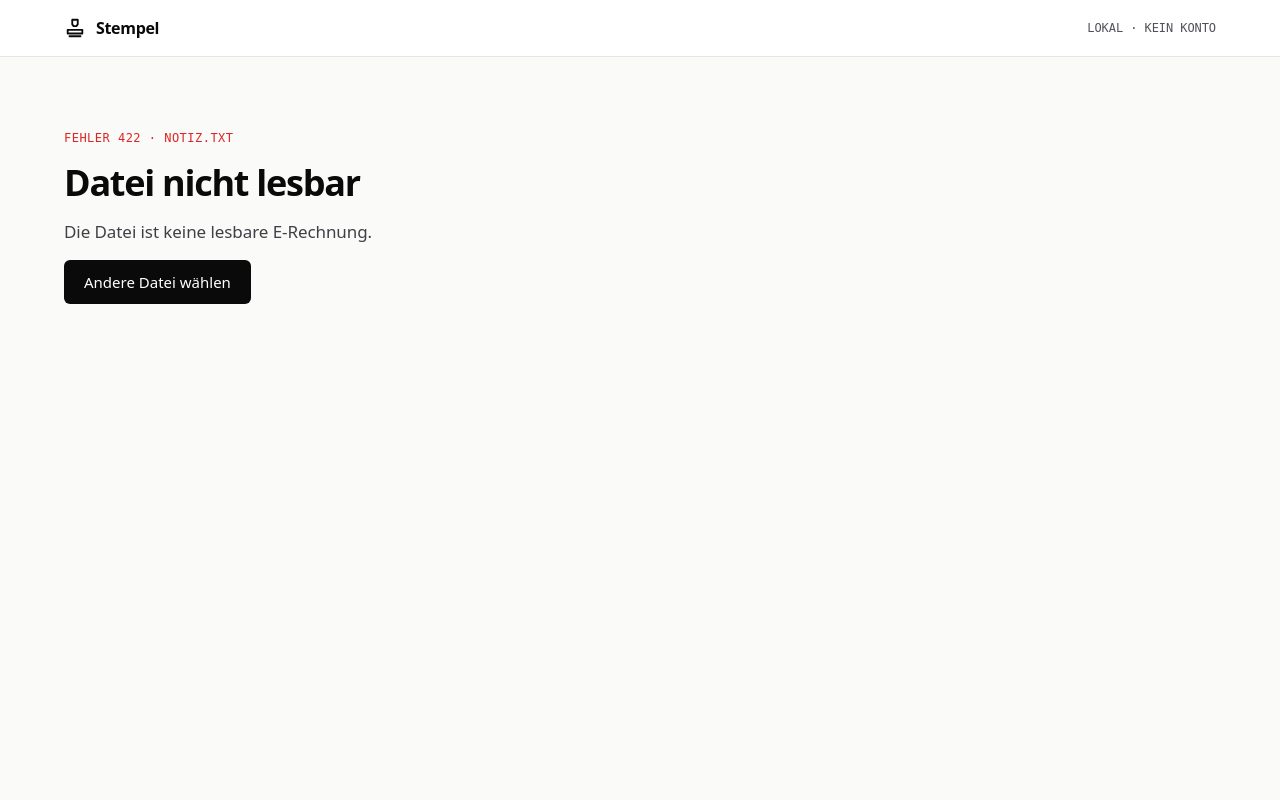
Scenario: App › shows the German message from the backend when a file is unreadable
Earlier steps of the test are not shown.
Check: the heading "Datei nicht lesbar" is shown, box 64,158 -> 360,207
Check: the text "Die Datei ist keine lesbare E-Rechnung." is shown, box 64,220 -> 372,243
Click the button "Andere Datei wählen".
click(157, 282)  # box 64,260 -> 251,304
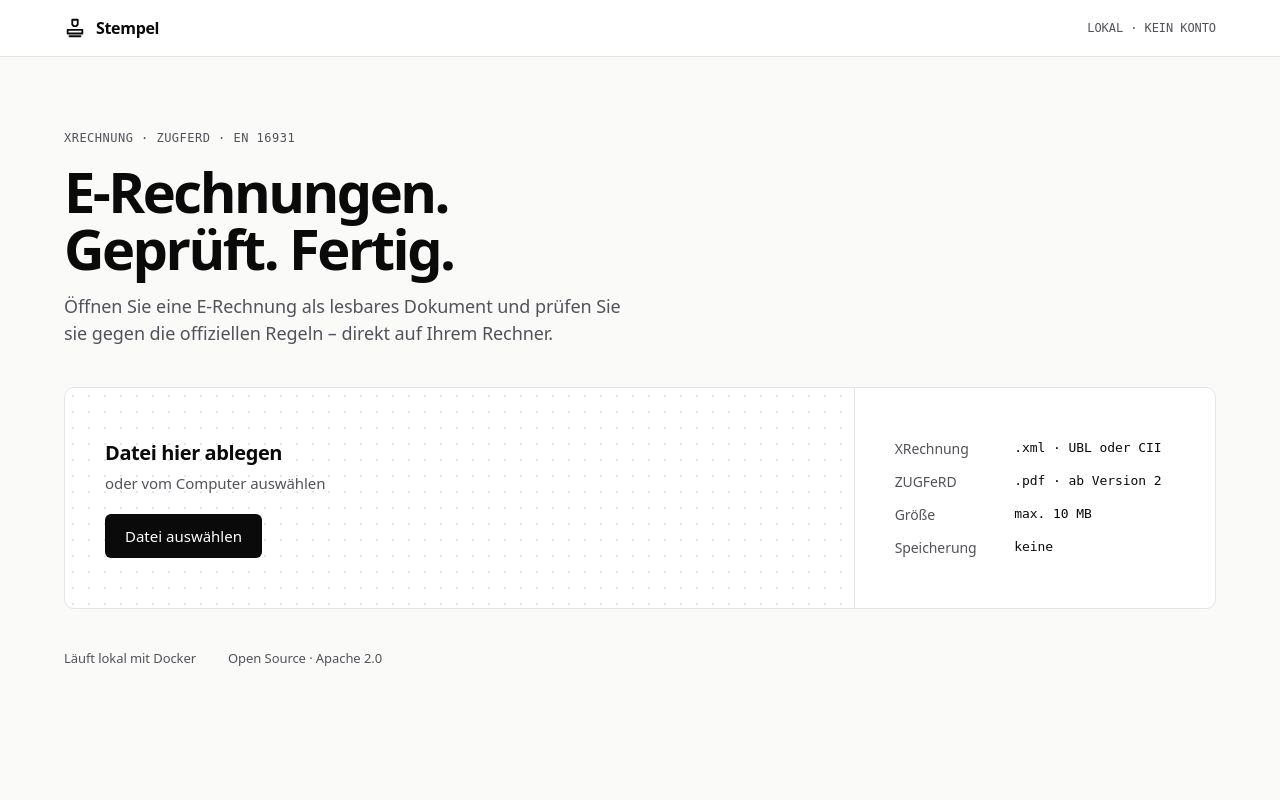
Check: the button "Datei auswählen" is shown, box 105,514 -> 262,558
